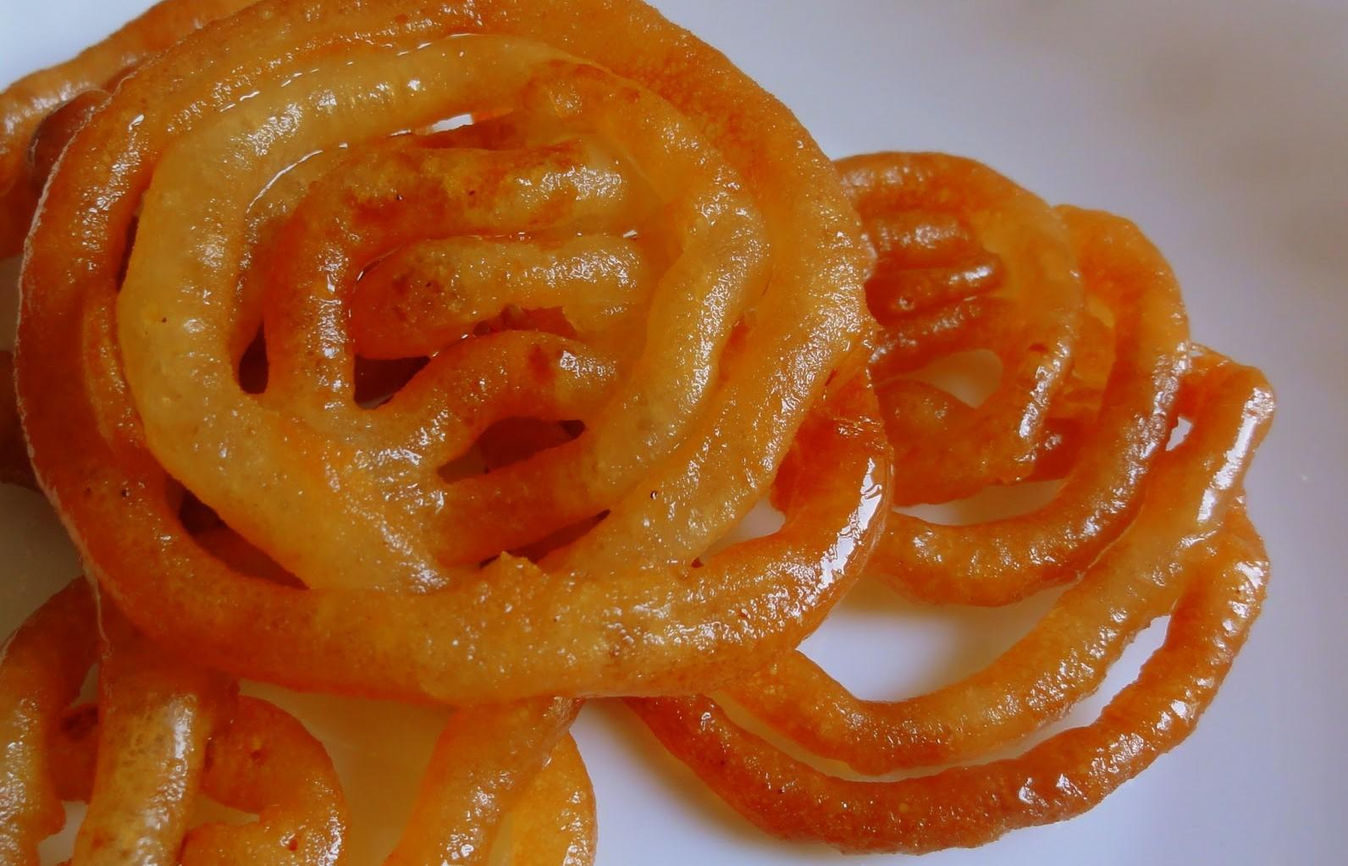Jalebi: (0, 0, 1276, 866)
